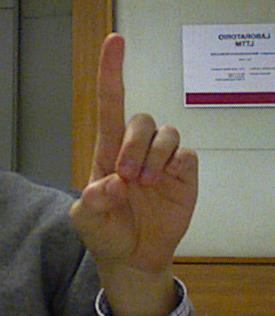up: (72, 33, 201, 255)
